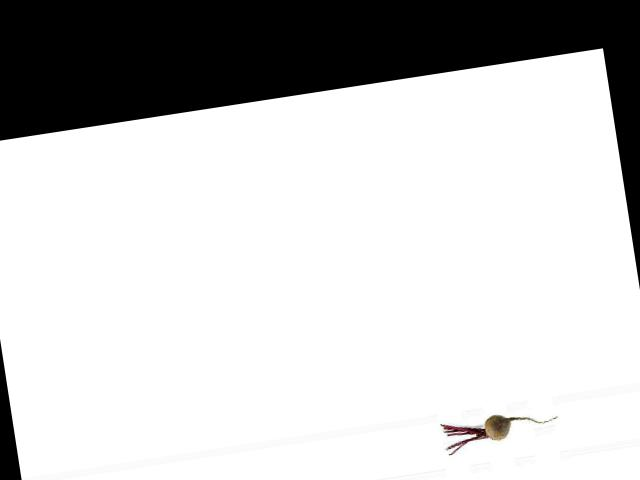beet: (441, 405, 561, 454)
